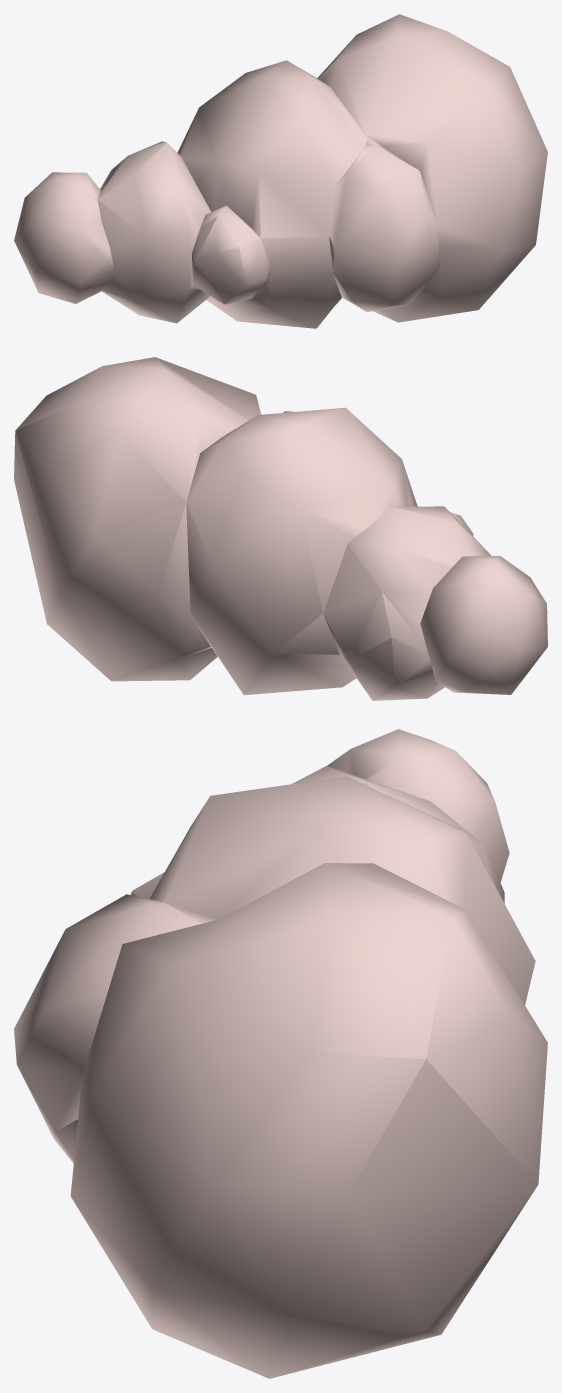
Rendered from cloud_type2.obj.
3 views of the same model, one above another, from view 1: azimuth 30°, elevation 25°; view 2: azimuth 150°, elevation 25°; view 3: azimuth 270°, elevation 25° (orthographic). The views are drawn at different scales.
Parts seen in each view (by area): view 1: 000_Cloud; view 2: 000_Cloud; view 3: 000_Cloud.
Part boxes in pixels (box(x1,y1,x2,y2)): 000_Cloud: box(14, 14, 547, 328); 000_Cloud: box(14, 357, 547, 700); 000_Cloud: box(14, 729, 547, 1378).
Bounding box in the file's own units: 140 × 73.93 × 75.72.
